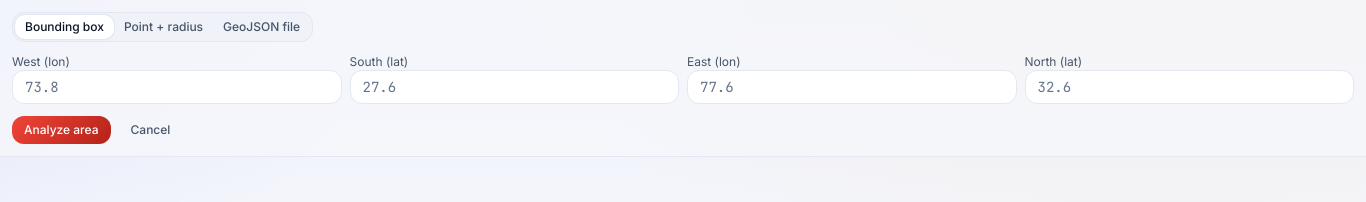
Test case: AoiForm › validates and submits a bounding box
The image size is (1366, 202).
Later steps or results of the test are not shown.
Click the button "Analyze area" at (61,130), box [12, 116, 110, 144]
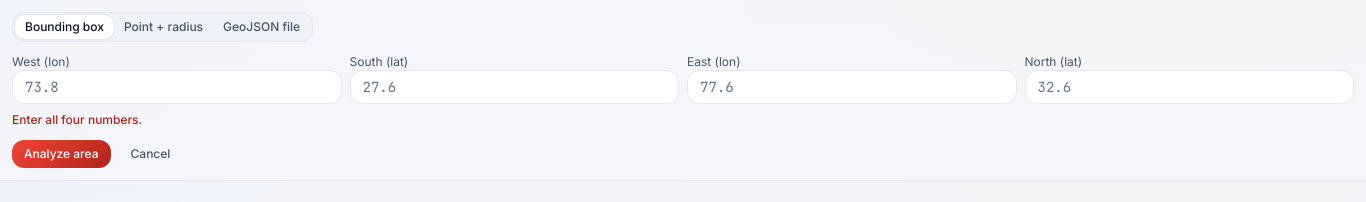
expect the message shows "all four": met, box [12, 112, 142, 127]
Type "76" into the field labelled "West (lon)" at (177,87), box [12, 70, 342, 104]
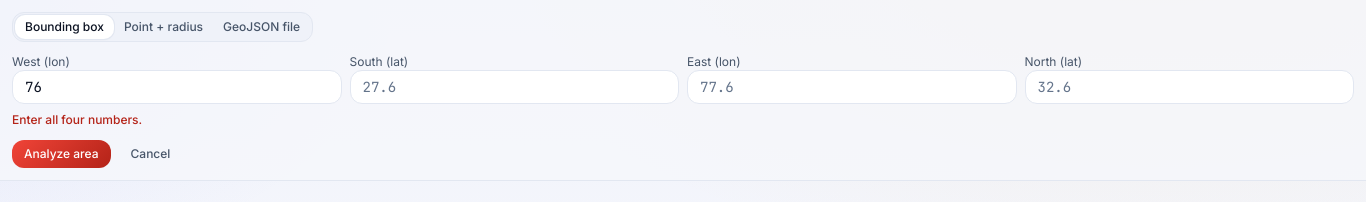
Type "28" into the field labelled "South (lat)" at (514,87), box [350, 70, 679, 104]
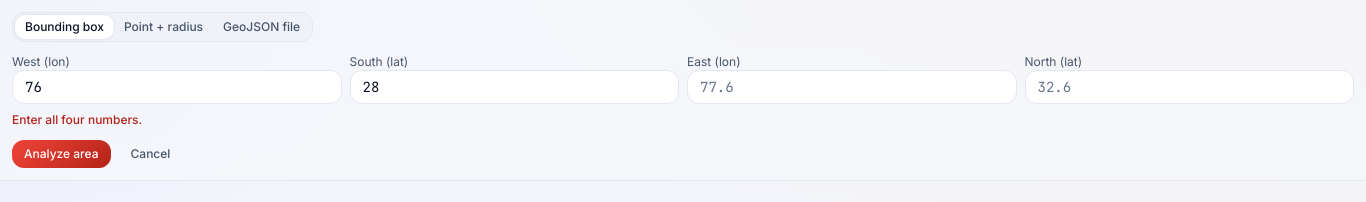
Type "75" into the field labelled "East (lon)" at (852,87), box [687, 70, 1016, 104]
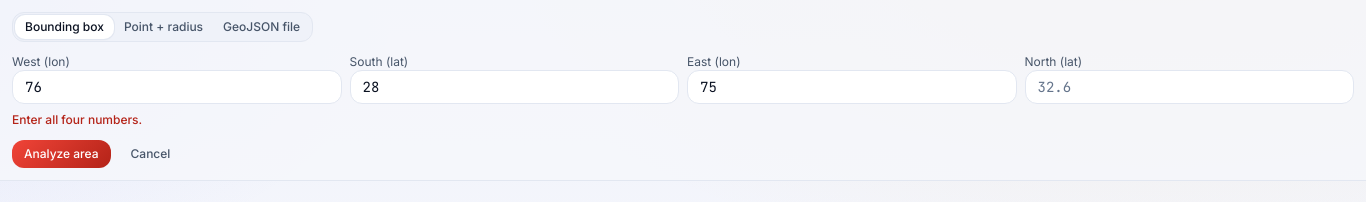
Type "30" into the field labelled "North (lat)" at (1189,87), box [1024, 70, 1354, 104]
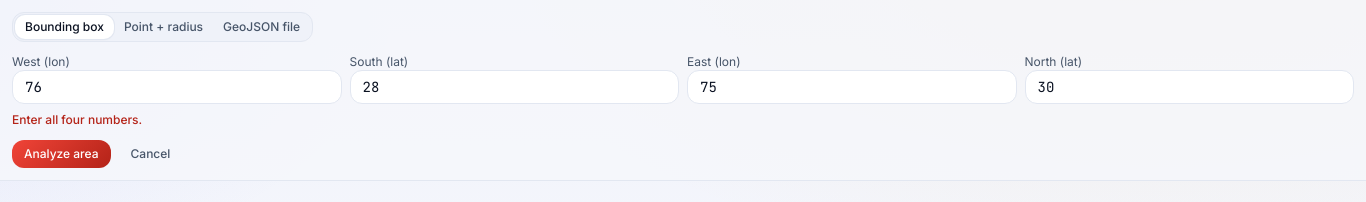
Click the button "Analyze area" at (61,154), box [12, 140, 110, 168]
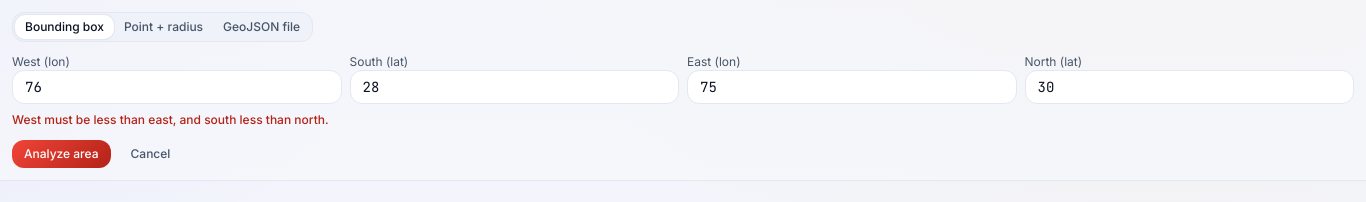
expect the message shows "West must be less": met, box [12, 112, 329, 127]
